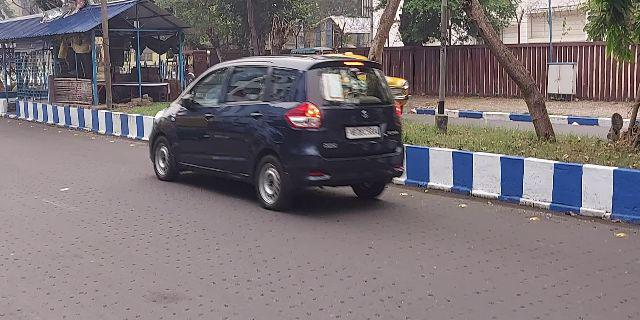Car: (135, 51, 409, 210)
